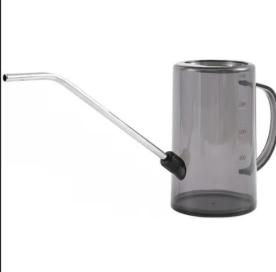ARROSOIR: (0, 54, 276, 271)
